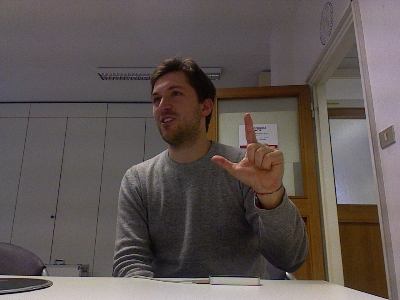枪: (209, 111, 284, 191)
